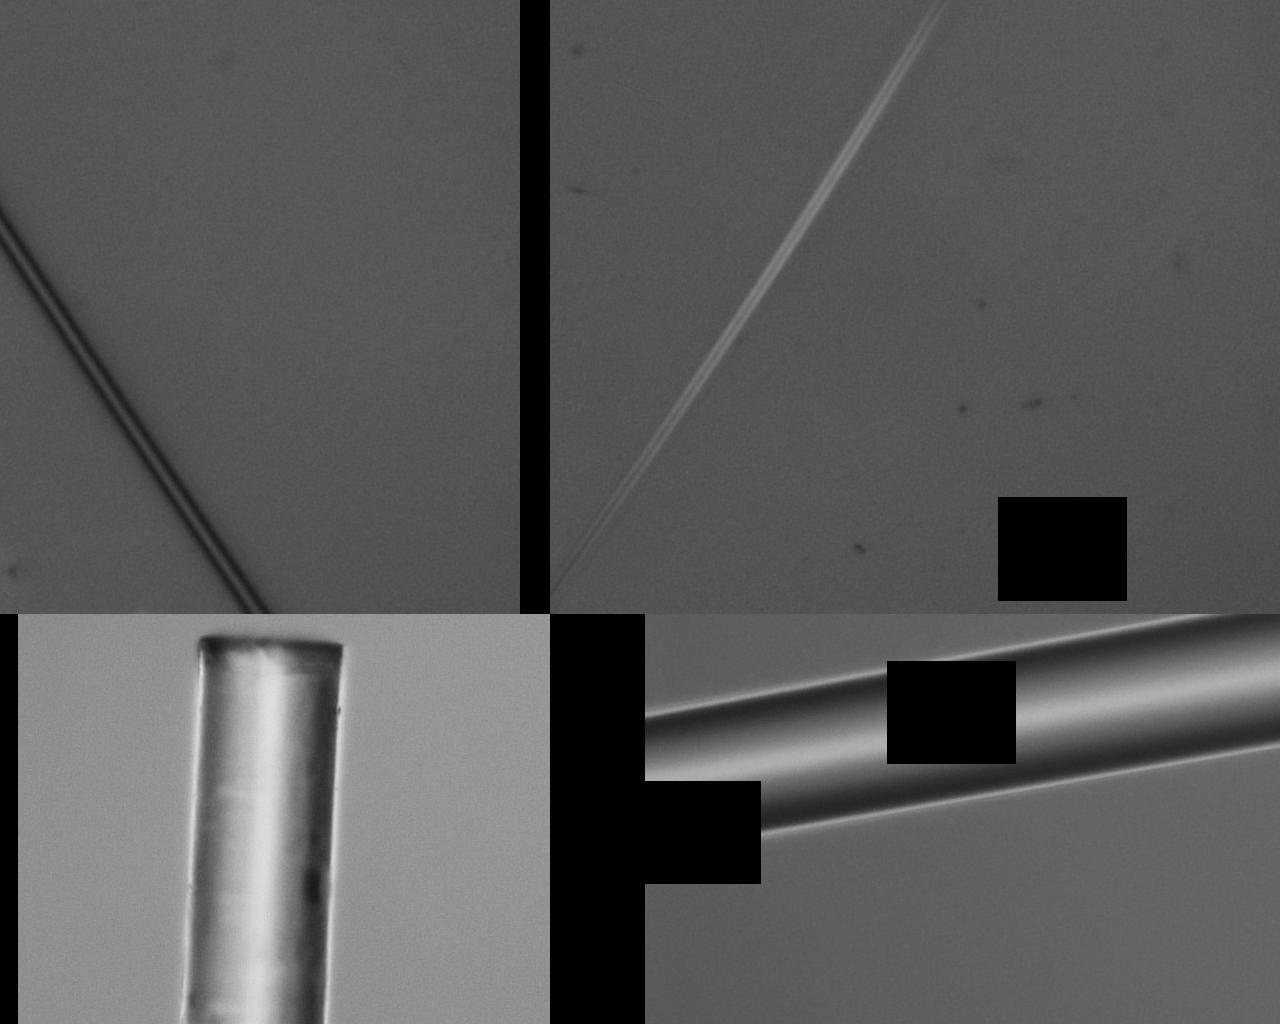fiber: (523, 573, 1280, 959), (0, 573, 395, 1024), (0, 356, 523, 573), (523, 372, 1176, 392)
